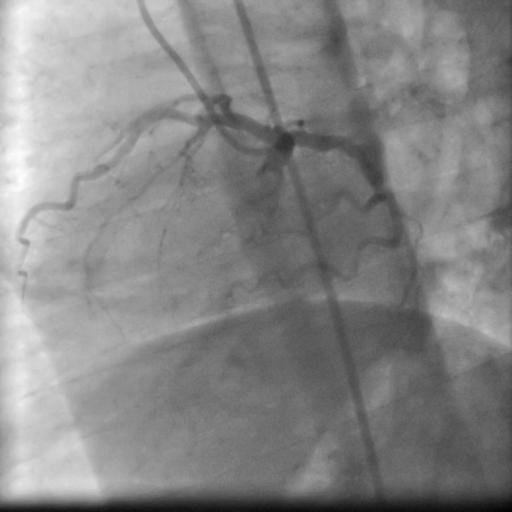Stenosis: (372, 181, 390, 194)
